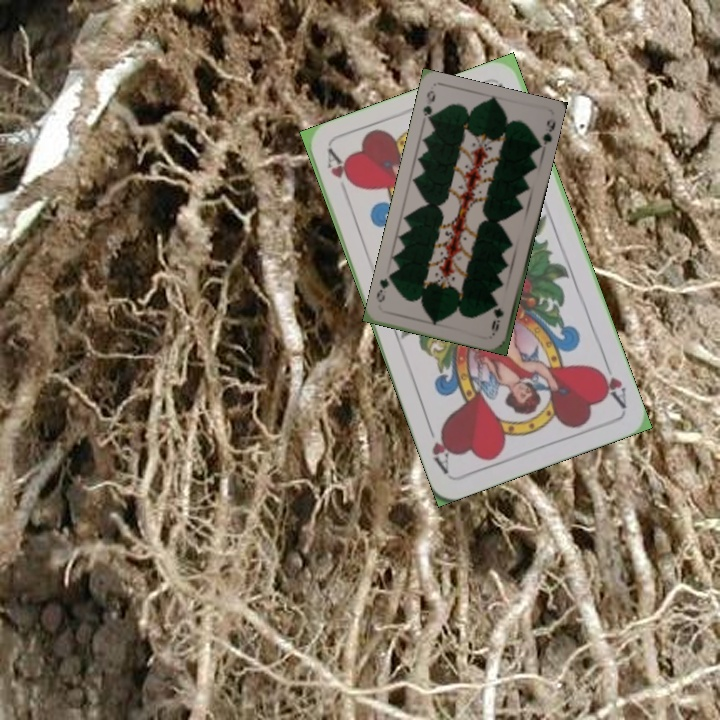G9: (419, 86, 438, 126), (488, 297, 506, 336)
HA: (592, 354, 629, 411), (322, 146, 356, 204)
